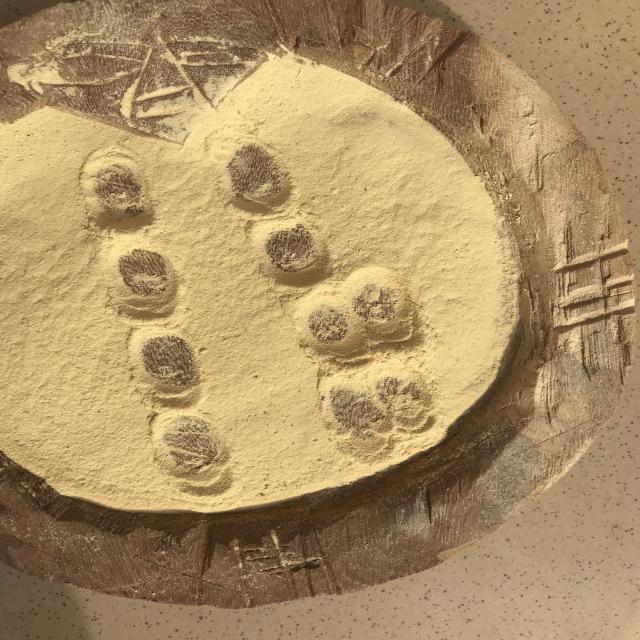double: (308, 361, 455, 462), (290, 274, 428, 366)
single: (145, 407, 241, 500), (71, 144, 166, 236), (204, 136, 310, 218), (94, 238, 198, 320), (120, 324, 216, 407), (252, 210, 334, 288)
